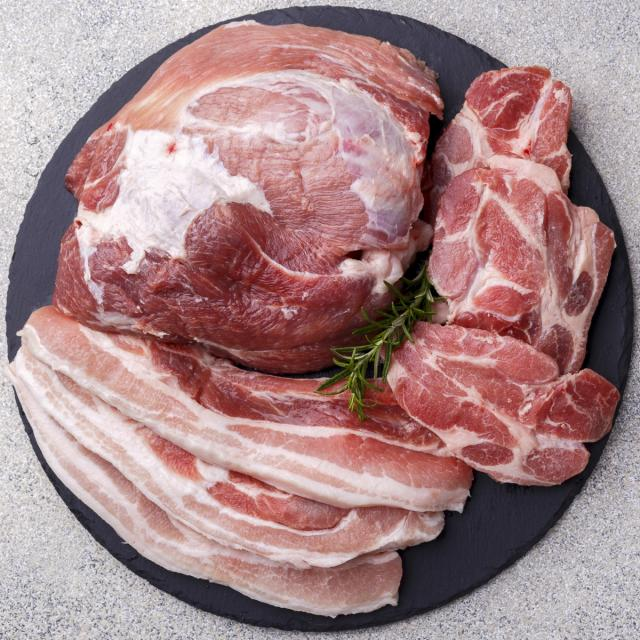Pork: (16, 308, 472, 615), (71, 1, 423, 373), (430, 60, 620, 369), (388, 323, 618, 497)
